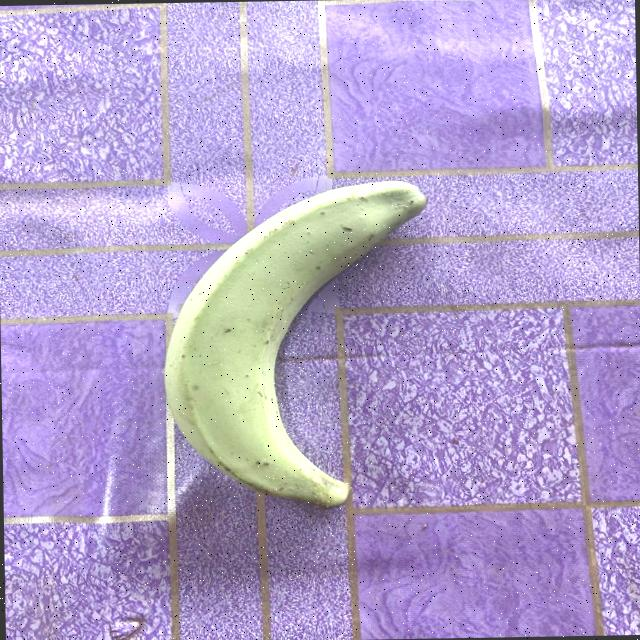Raw: (110, 159, 512, 562)
